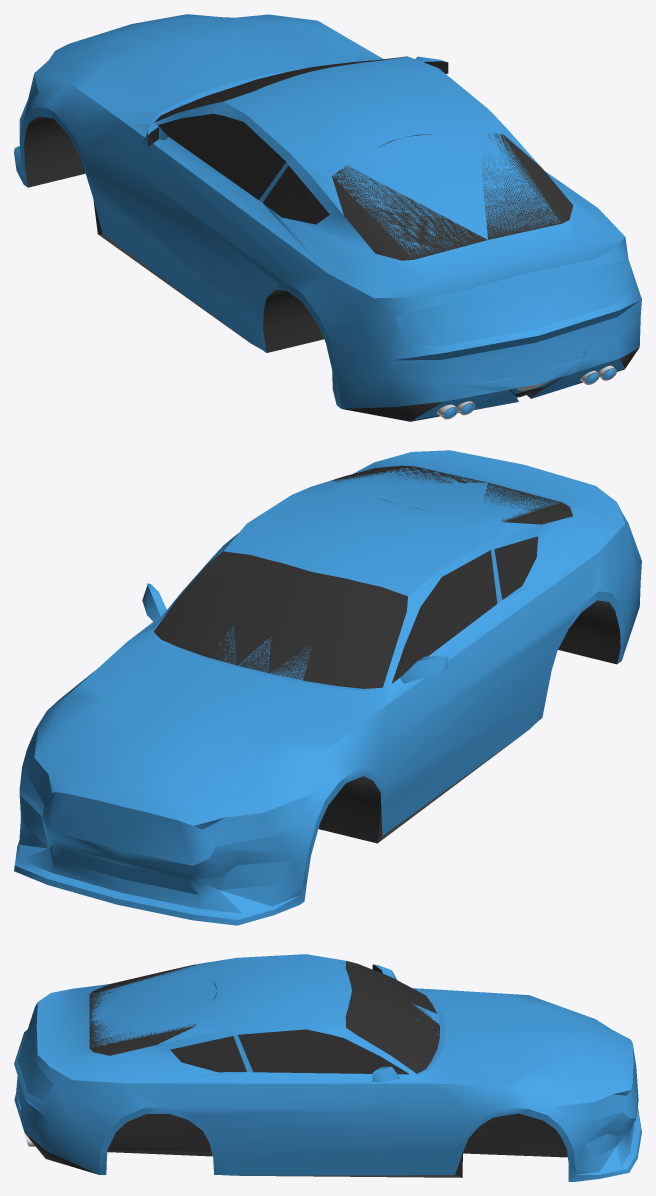
Rendered from Mustang.fbx.
3 renders of one model, top to bottom at view 1: azimuth 30°, elevation 25°; view 2: azimuth 150°, elevation 25°; view 3: azimuth 270°, elevation 25°, orthographic. The views are drawn at different scales.
Parts seen in each view (by area): view 1: Car Body.002, Car Body.001; view 2: Car Body.002, Car Body.001; view 3: Car Body.002, Car Body.001.
Part boxes in pixels (<box>): Car Body.002: <box>14,14,641,421</box>; Car Body.001: <box>27,14,634,420</box>; Car Body.002: <box>14,450,641,925</box>; Car Body.001: <box>19,466,597,894</box>; Car Body.002: <box>14,954,641,1181</box>; Car Body.001: <box>16,964,637,1157</box>.
Size of the model in its own units: 192 by 122 by 467.
